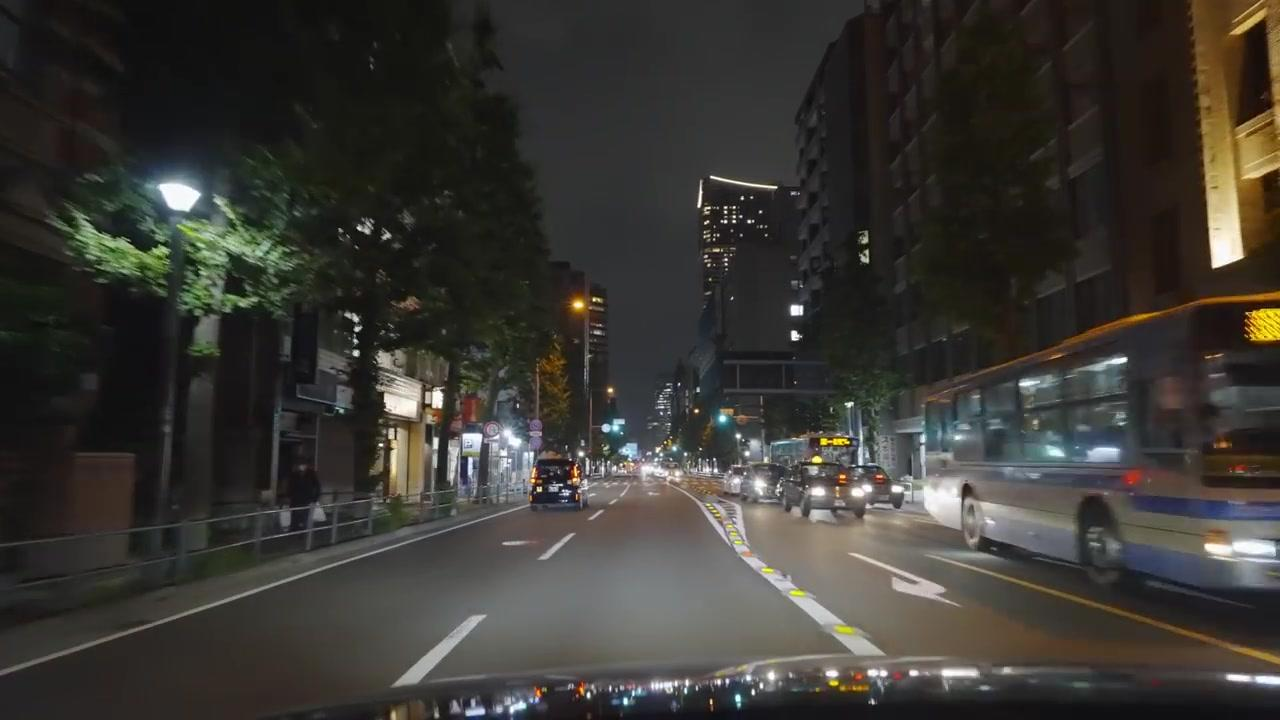bus: (921, 294, 1279, 602), (529, 455, 583, 509)
car: (783, 463, 867, 521), (529, 455, 583, 509), (846, 464, 906, 510), (741, 461, 789, 503), (722, 463, 746, 497)
person: (287, 459, 321, 532)
